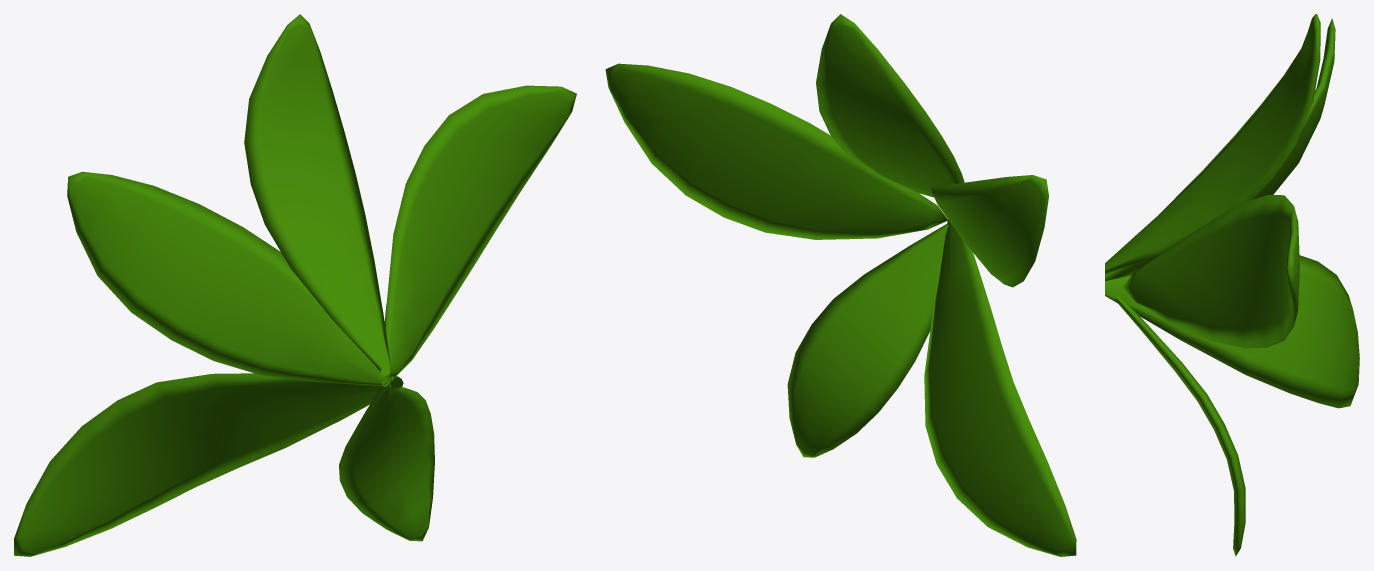
The model's file is planta2.fbx.
The picture shows the model from 3 angles, left to right: view 1: azimuth 30°, elevation 25°; view 2: azimuth 150°, elevation 25°; view 3: azimuth 270°, elevation 25°; orthographic projection. The views are drawn at different scales.
Visible parts, largest first — view 1: Plant 3; view 2: Plant 3; view 3: Plant 3.
Part boxes in pixels (box(x1,y1,x2,y2)): Plant 3: box(14, 14, 576, 556); Plant 3: box(605, 14, 1076, 556); Plant 3: box(1105, 14, 1359, 556).
Bounding box in the file's own units: 144 × 134 × 61.27.
